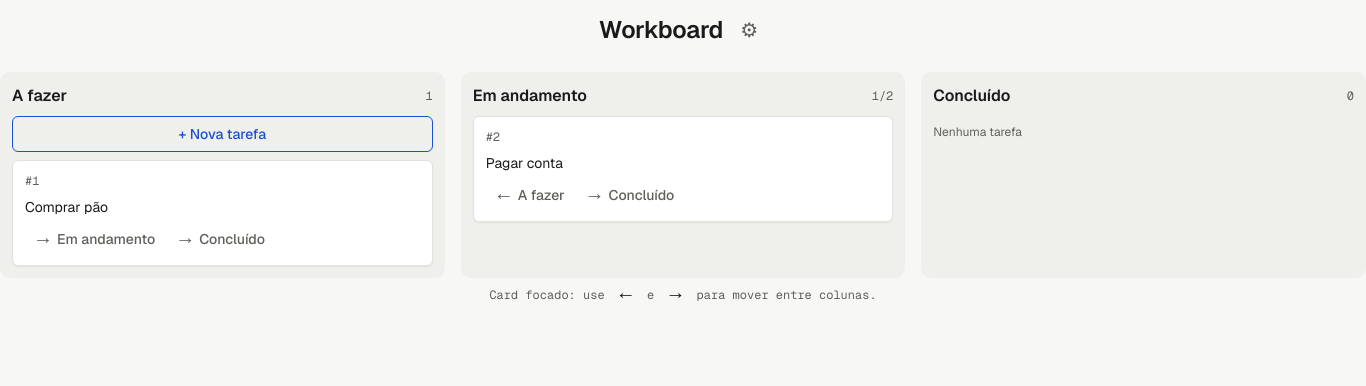
Test: BoardView › shows a failure and keeps the board as it was
Click the button with aria-label "Mover #1 para Em andamento".
click(94, 239)  # box top-left (25, 225), bottom-right (163, 253)
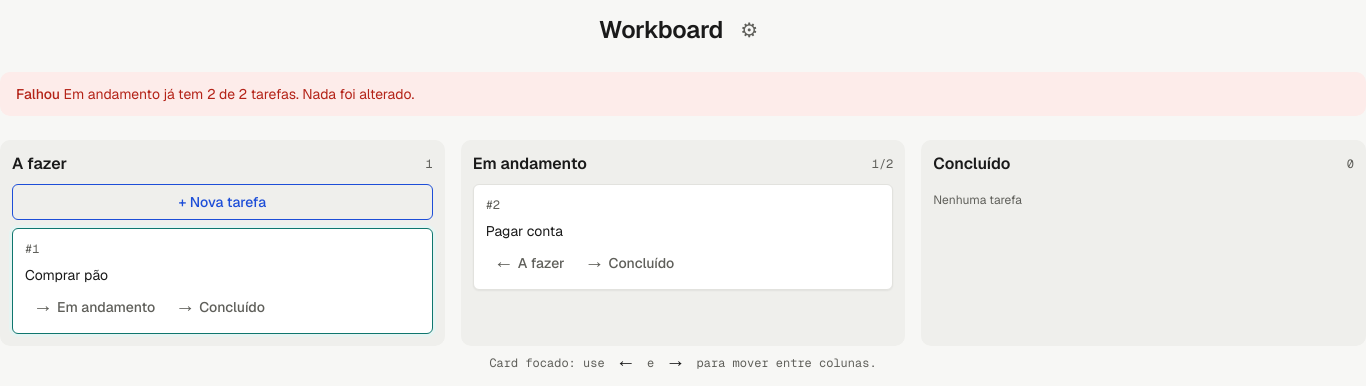
expect the text "Comprar pão" is shown: met, box top-left (25, 266), bottom-right (108, 284)
expect the message shows "Em andamento já tem 2 de 2 tarefas. Nada foi alterado.": met, box top-left (64, 85), bottom-right (414, 103)
